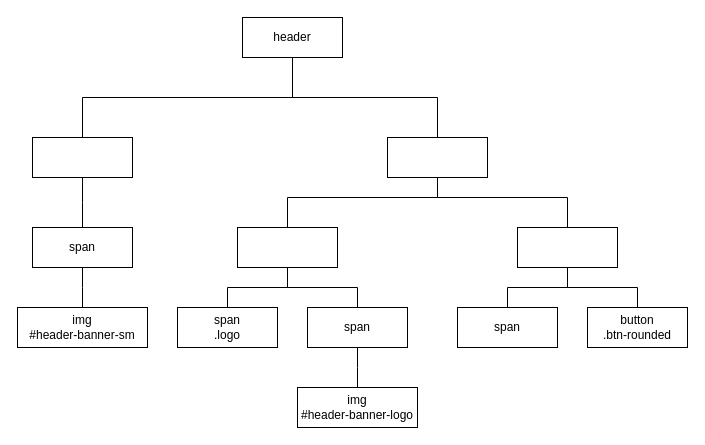
Image size: 705x445. Some labels were removed from this diagram. The centre of each missing label's shape, as x and y in pixels:
"div #header-banner" goes at point 82,157.
"div #header-menubar" goes at point 437,157.
"div .left" goes at point 287,247.
"div .right" goes at point 567,247.
